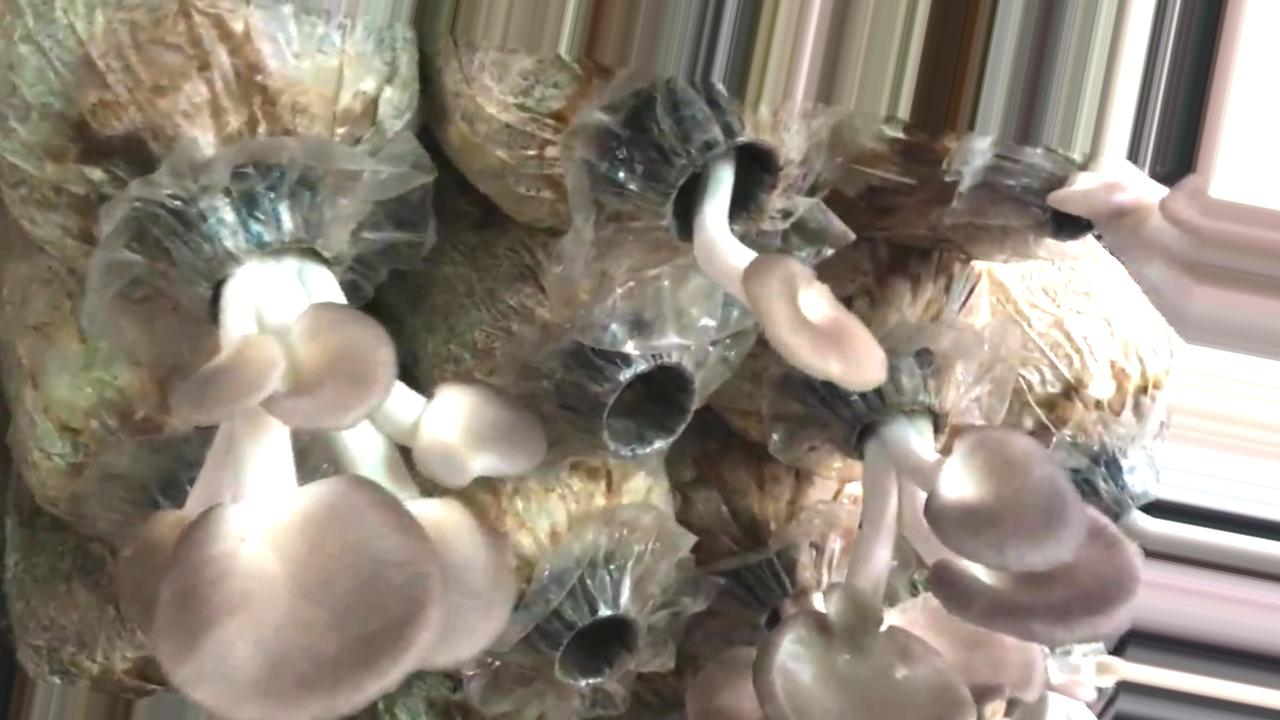nam: (126, 177, 539, 720), (753, 362, 1142, 720), (646, 82, 889, 388)
